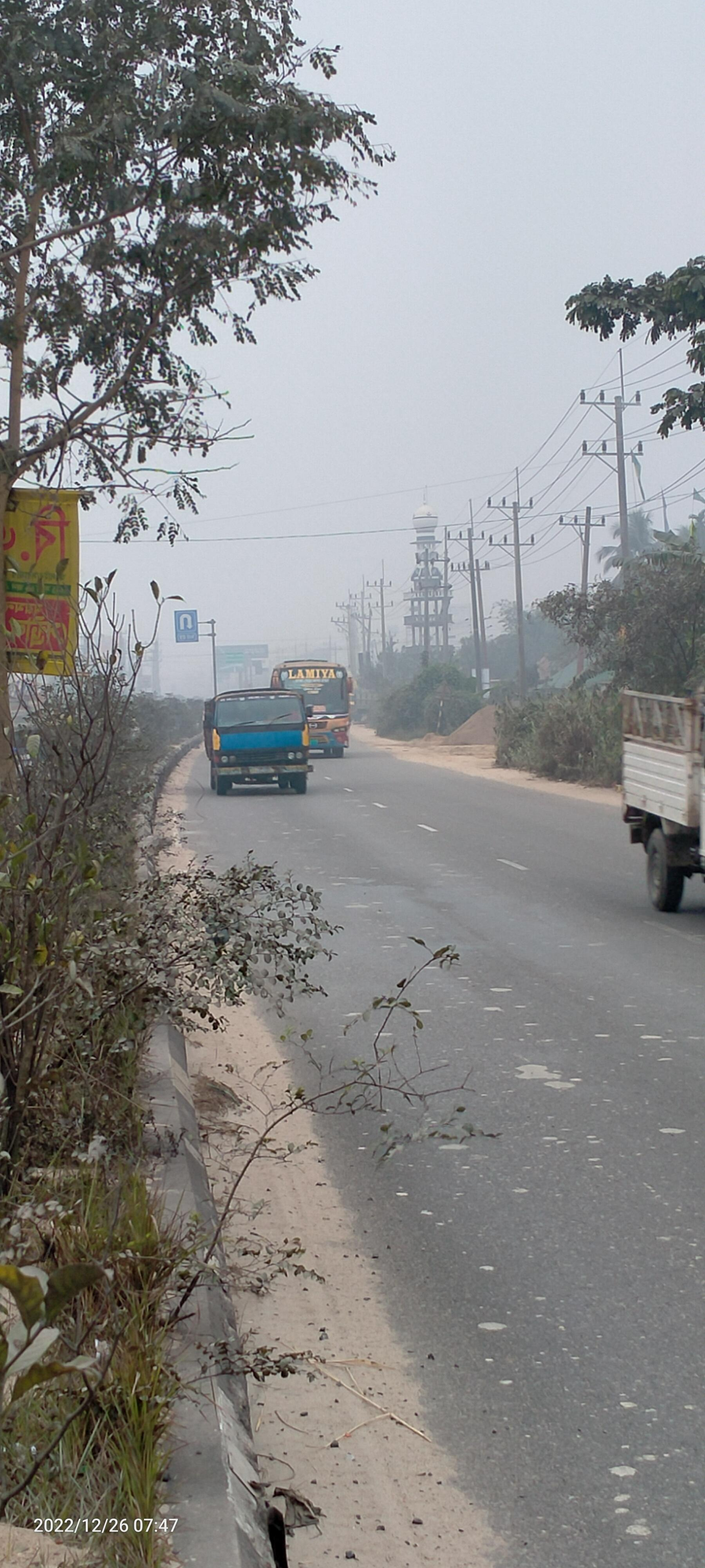Bus: (274, 647, 359, 768)
Truck: (194, 681, 313, 802)
